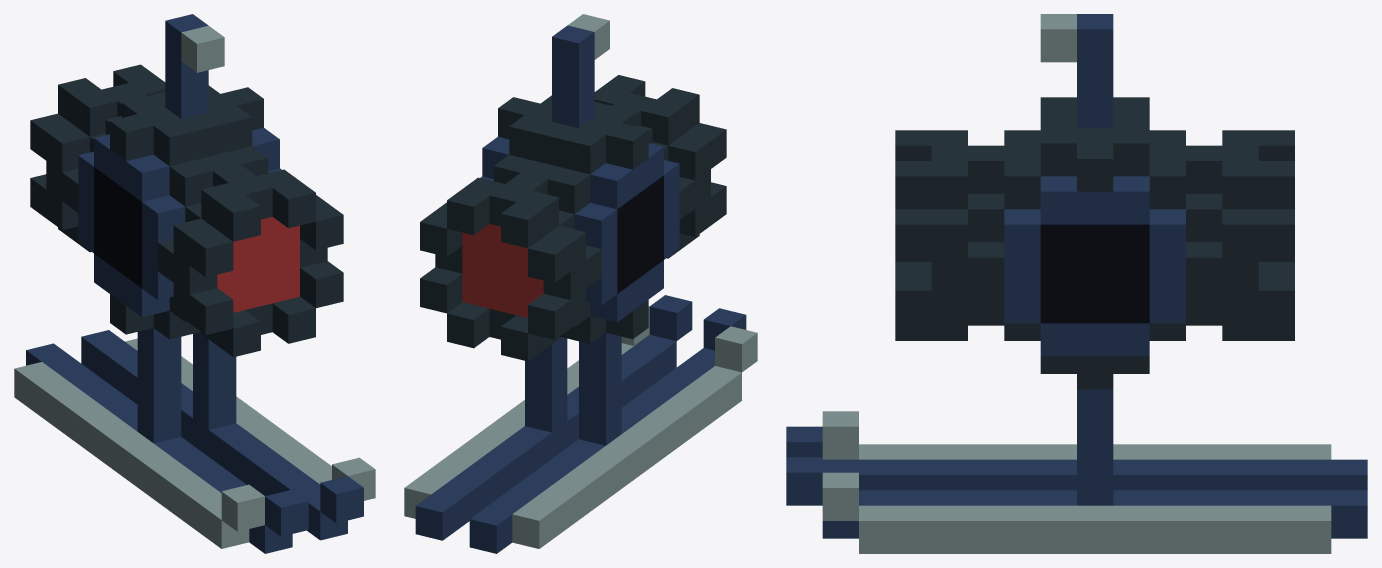
File: TransportSlider.obj
3 views of the same model, side by side, from view 1: azimuth 30°, elevation 25°; view 2: azimuth 150°, elevation 25°; view 3: azimuth 270°, elevation 25° (orthographic). The views are drawn at different scales.
Bounding box in the file's own units: 0.5 × 1.5 × 1.6.
1 material, 1 textured.
